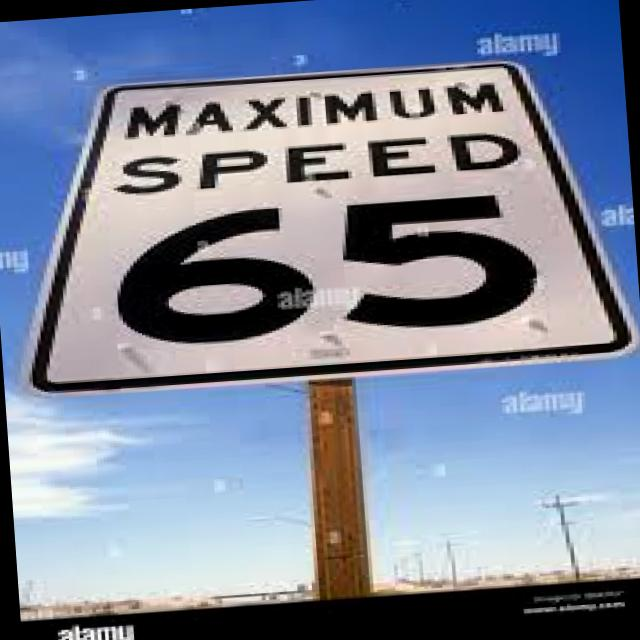Speed Limit Signs: (5, 46, 640, 399)
